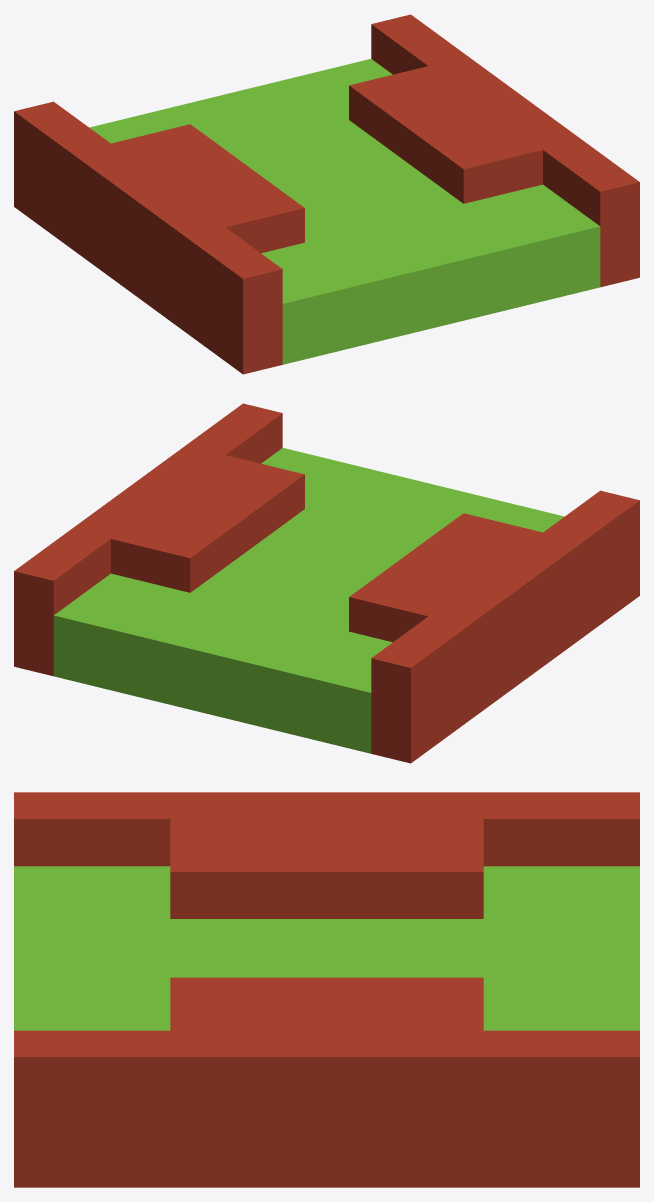
Rendered from Narrow_Block.FBX.
3 renders of one model, top to bottom at view 1: azimuth 30°, elevation 25°; view 2: azimuth 150°, elevation 25°; view 3: azimuth 270°, elevation 25°, orthographic. The views are drawn at different scales.
Parts seen in each view (by area): view 1: Walls, Narrow_block_01; view 2: Walls, Narrow_block_01; view 3: Walls, Narrow_block_01.
Boxes of the visible parts, bbox=[...] form: Walls: bbox=[14, 14, 639, 374]; Narrow_block_01: bbox=[89, 59, 600, 364]; Walls: bbox=[14, 403, 639, 763]; Narrow_block_01: bbox=[53, 448, 564, 753]; Walls: bbox=[14, 792, 639, 1187]; Narrow_block_01: bbox=[14, 866, 639, 1030].
Size of the model in its own units: 0.9999 by 0.9999 by 0.23.
